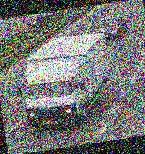truck: (17, 30, 118, 132)
